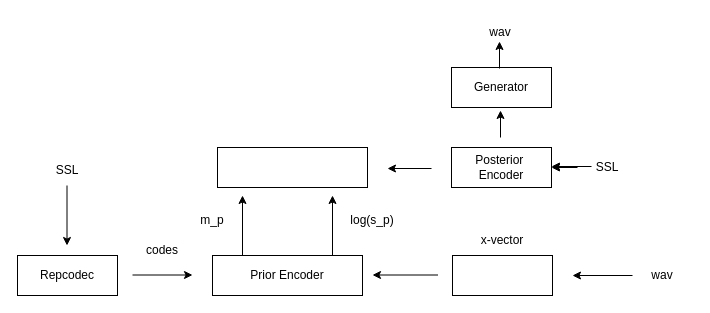
Some shapes in this 710 by 313 pixel diagram are drawn without their labels. The centre of each missing label's shape, as x and y in pixels:
flow: point 292,167
Speaker Encoder: point 502,275
